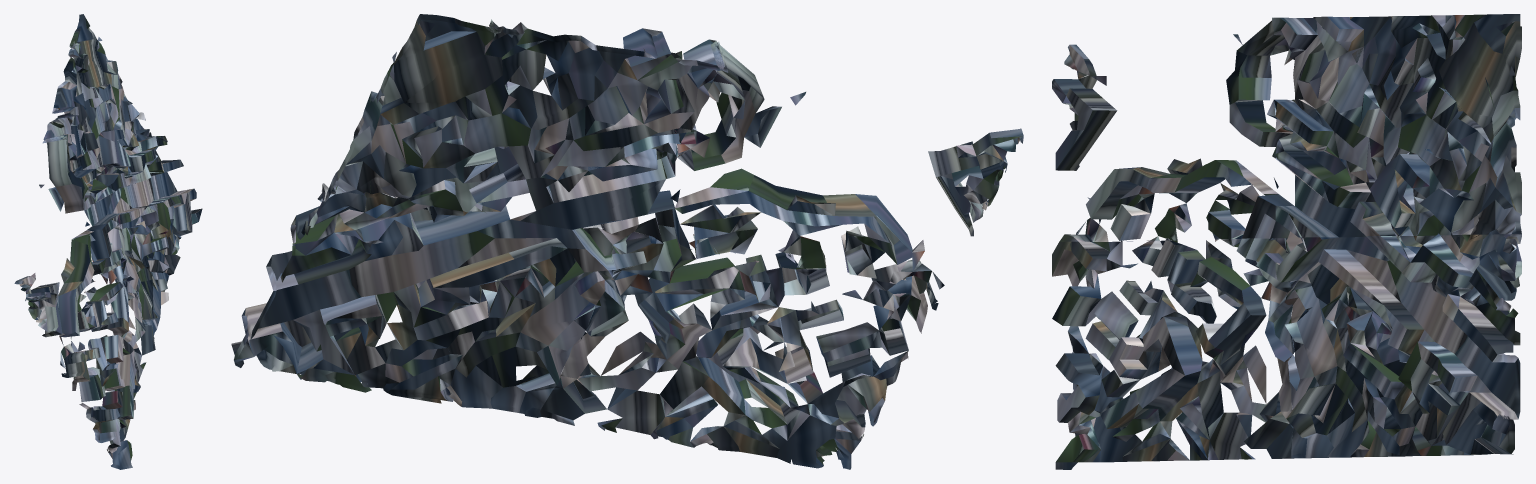
3 renders of one model, left to right at view 1: azimuth 30°, elevation 25°; view 2: azimuth 150°, elevation 25°; view 3: azimuth 270°, elevation 25°, orthographic. The views are drawn at different scales.
Visible parts, largest first — view 1: node_3043627270436073_mesh0, node_3043627270436073_mesh1; view 2: node_3043627270436073_mesh0, node_3043627270436073_mesh1; view 3: node_3043627270436073_mesh0, node_3043627270436073_mesh1.
Part boxes in pixels (left/top/right/bottom): node_3043627270436073_mesh0: left=14, top=14, right=202, bottom=469; node_3043627270436073_mesh1: left=20, top=18, right=179, bottom=458; node_3043627270436073_mesh0: left=231, top=14, right=1023, bottom=469; node_3043627270436073_mesh1: left=234, top=21, right=1017, bottom=453; node_3043627270436073_mesh0: left=1052, top=14, right=1521, bottom=469; node_3043627270436073_mesh1: left=1052, top=15, right=1519, bottom=460.
Bounding box in the file's own units: 585 × 585 × 466.
2 materials, 2 textured.
